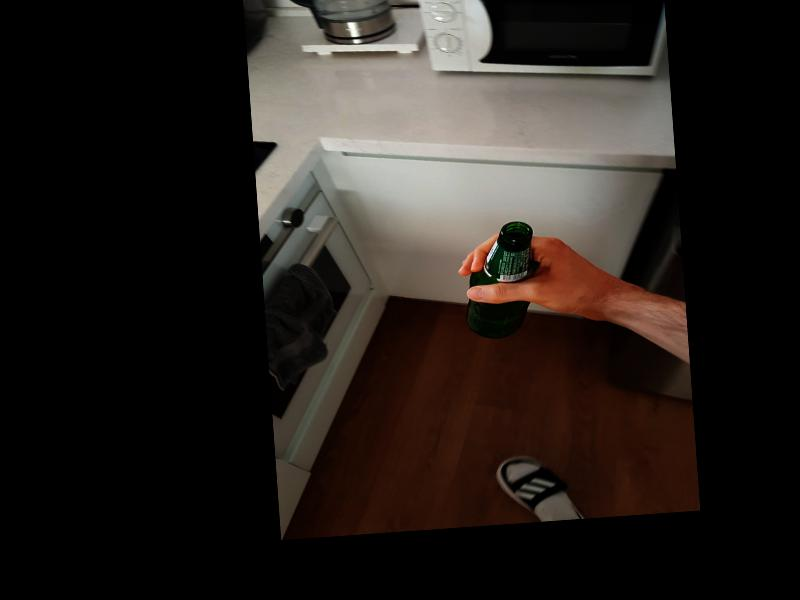Beer: (460, 222, 540, 340)
